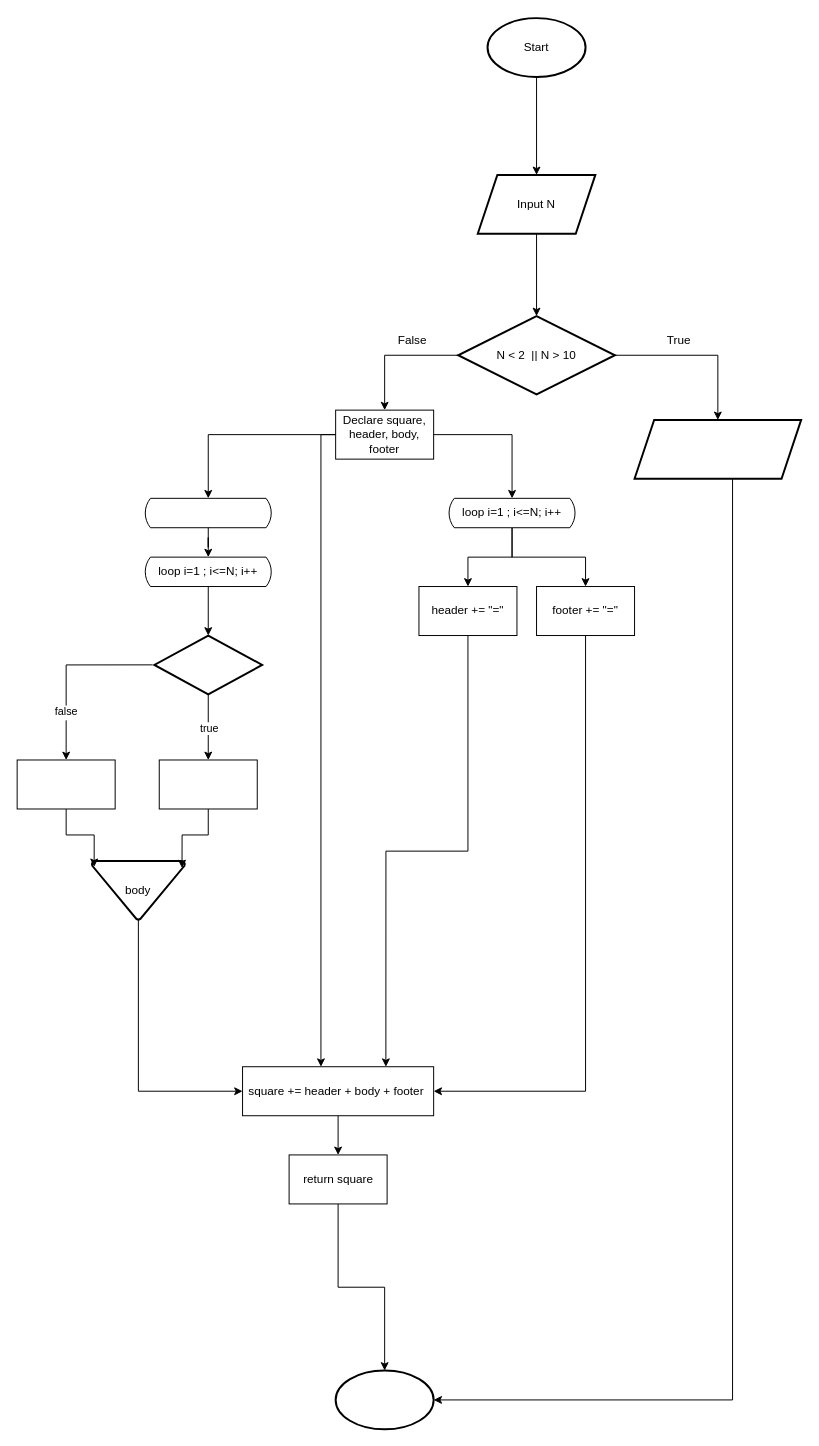
Some shapes in this 819 by 1446 pixel diagram are drawn without their labels. Here are the shapes that lost their labels. From the top down, the box of each, then its label:
(633, 418, 802, 479): nilai N terlalu kecil/besar
(144, 497, 272, 528): loop i=1 ; i<=N-2; i++
(153, 634, 263, 695): i == 1 || i == n-2
(16, 759, 115, 809): body += " "
(158, 759, 257, 809): body += "|"
(334, 1369, 434, 1430): End
